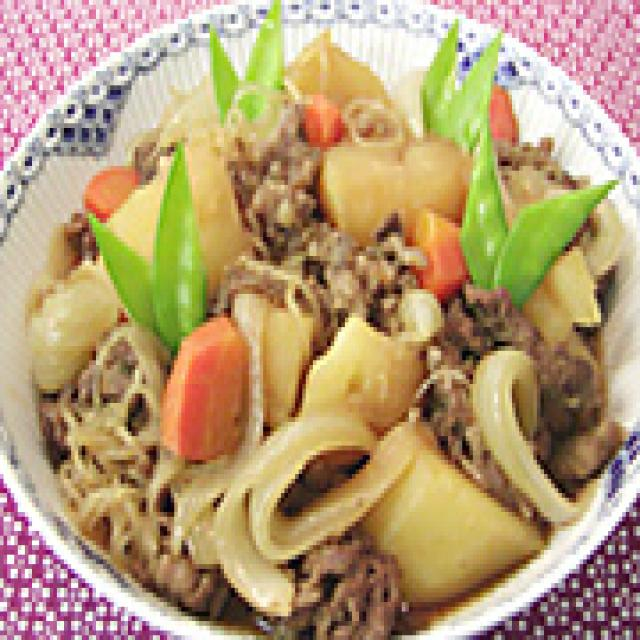牛肉菜式: (57, 57, 576, 569)
